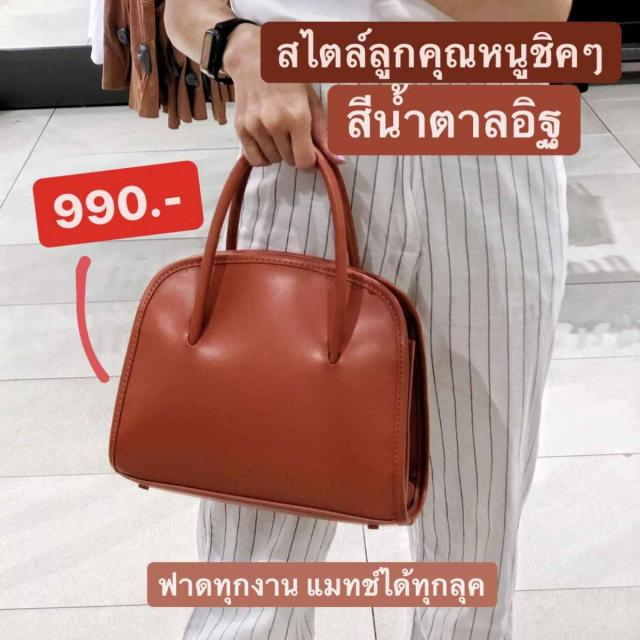Handbag: (106, 233, 428, 526)
